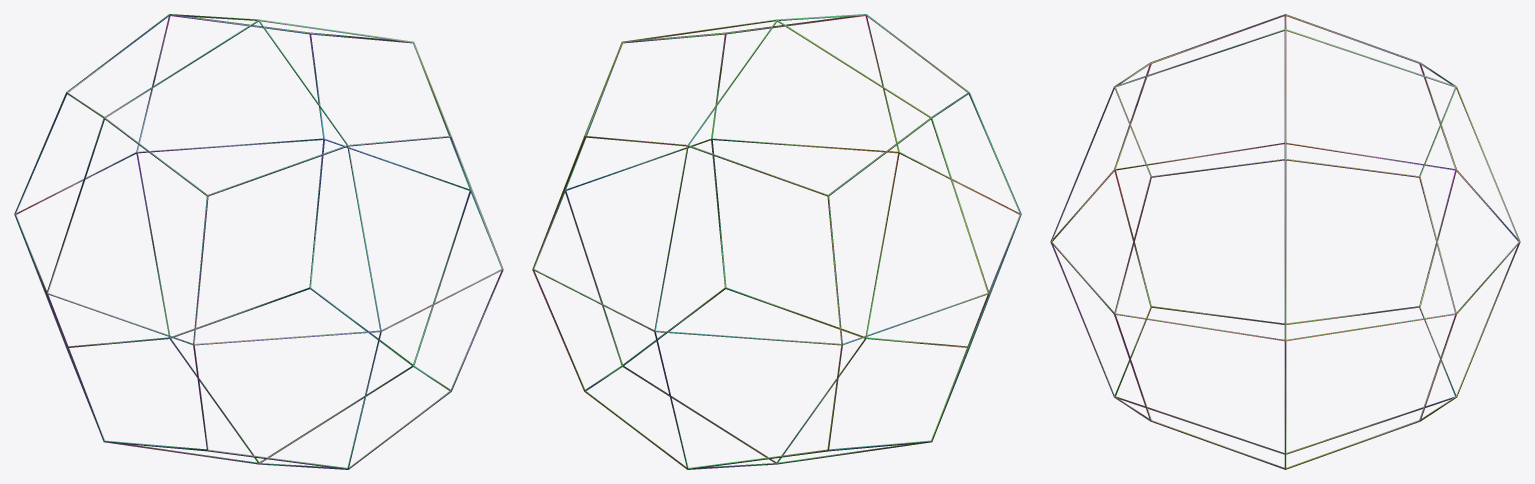
File: zeometry-wireframes-wire-deltoidal-icositetrahedron_v1.fbx
3 views of the same model, side by side, from view 1: azimuth 30°, elevation 25°; view 2: azimuth 150°, elevation 25°; view 3: azimuth 270°, elevation 25° (orthographic). The views are drawn at different scales.
Parts seen in each view (by area): view 1: Wire Deltoidal Icositetrahedron; view 2: Wire Deltoidal Icositetrahedron; view 3: Wire Deltoidal Icositetrahedron.
Part boxes in pixels (<box>): Wire Deltoidal Icositetrahedron: <box>14,14,503,469</box>; Wire Deltoidal Icositetrahedron: <box>532,14,1021,469</box>; Wire Deltoidal Icositetrahedron: <box>1050,14,1520,469</box>.
Bounding box in the file's own units: 0.5 × 0.5 × 0.5.
